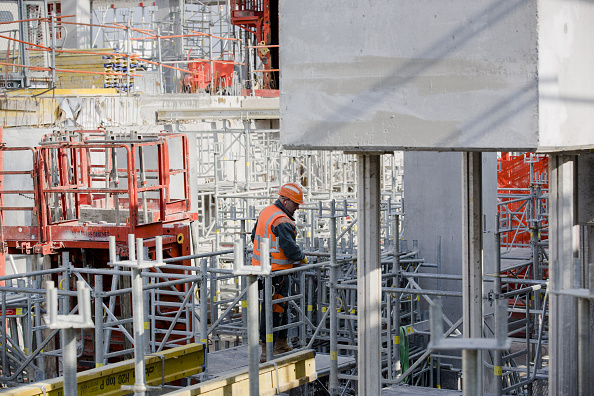em pe: (243, 184, 314, 288)
